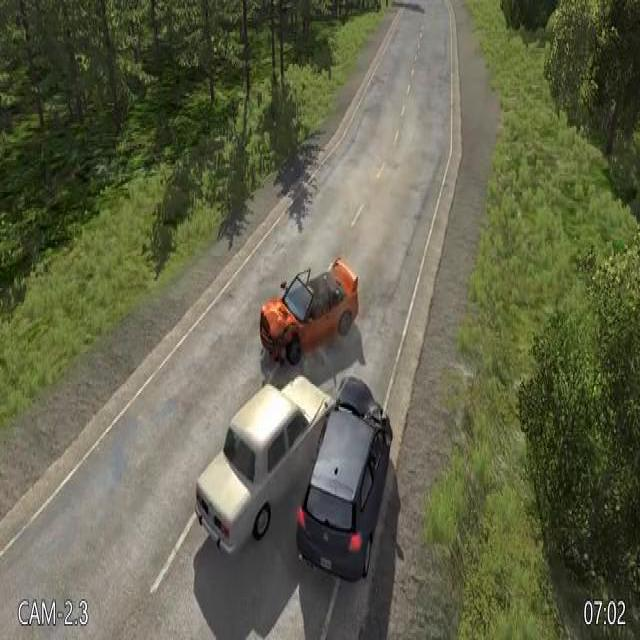moderate: (191, 364, 395, 588)
